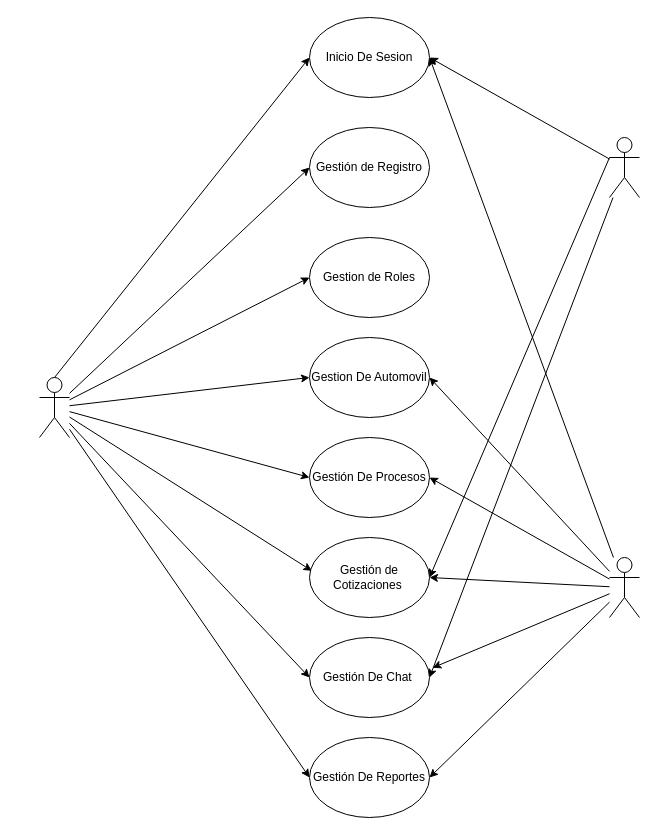
The diagram is 668 pixels wide and 835 high, and some of its shapes have lost their labels. Each missing label, with the centre of its shape:
Administrador: pixel 54 407
Cliente: pixel 624 167
Empleado: pixel 624 587
